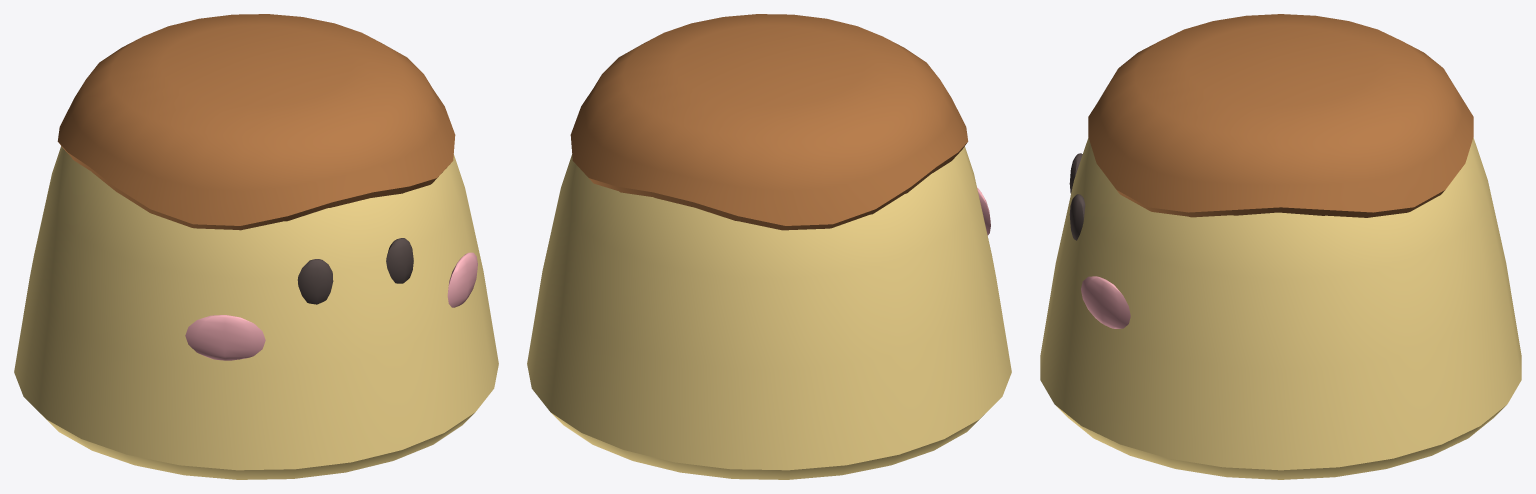
Rendered from pudding_base.glb.
The picture shows the model from 3 angles, left to right: view 1: azimuth 30°, elevation 25°; view 2: azimuth 150°, elevation 25°; view 3: azimuth 270°, elevation 25°; orthographic projection.
Parts seen in each view (by area): view 1: Pudding_Body, Pudding_Caramel, Pudding_Blush, Pudding_Eyes; view 2: Pudding_Body, Pudding_Caramel; view 3: Pudding_Body, Pudding_Caramel, Pudding_Blush, Pudding_Eyes.
Part boxes in pixels (bbox=[...]): Pudding_Body: bbox=[14, 146, 498, 479]; Pudding_Caramel: bbox=[57, 14, 455, 230]; Pudding_Blush: bbox=[185, 252, 477, 360]; Pudding_Eyes: bbox=[297, 238, 413, 304]; Pudding_Body: bbox=[527, 146, 1011, 479]; Pudding_Caramel: bbox=[570, 14, 968, 230]; Pudding_Body: bbox=[1040, 137, 1521, 479]; Pudding_Caramel: bbox=[1088, 14, 1473, 217]; Pudding_Blush: bbox=[1081, 276, 1130, 328]; Pudding_Eyes: bbox=[1069, 153, 1085, 240].
Size of the model in its own units: 1 by 0.748 by 0.9927.
